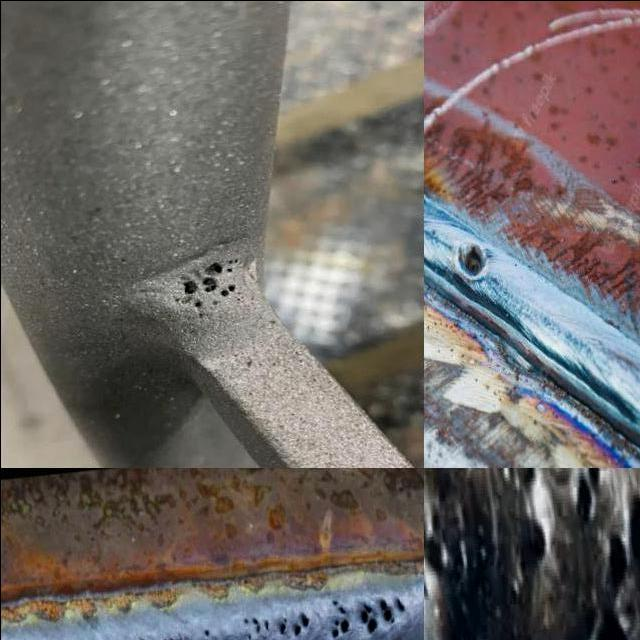defect: (423, 494, 469, 609), (598, 488, 640, 591), (570, 467, 604, 528), (455, 239, 489, 281), (527, 512, 550, 569), (329, 595, 352, 640), (277, 611, 314, 638), (205, 255, 245, 274), (241, 614, 270, 640), (357, 601, 377, 638), (379, 595, 395, 626), (178, 279, 200, 296), (200, 276, 221, 292), (217, 282, 239, 297), (196, 626, 212, 640), (395, 595, 406, 613), (235, 293, 245, 302), (162, 634, 177, 640), (192, 299, 203, 307), (195, 311, 206, 319), (211, 297, 222, 304), (138, 636, 148, 640)
